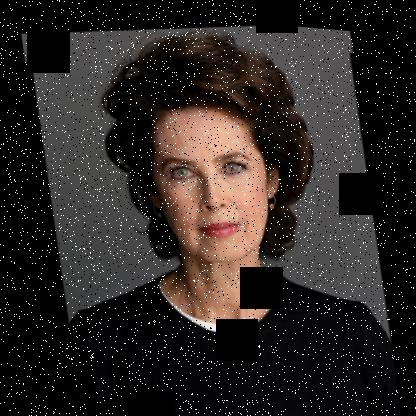Female: (134, 90, 287, 266)
